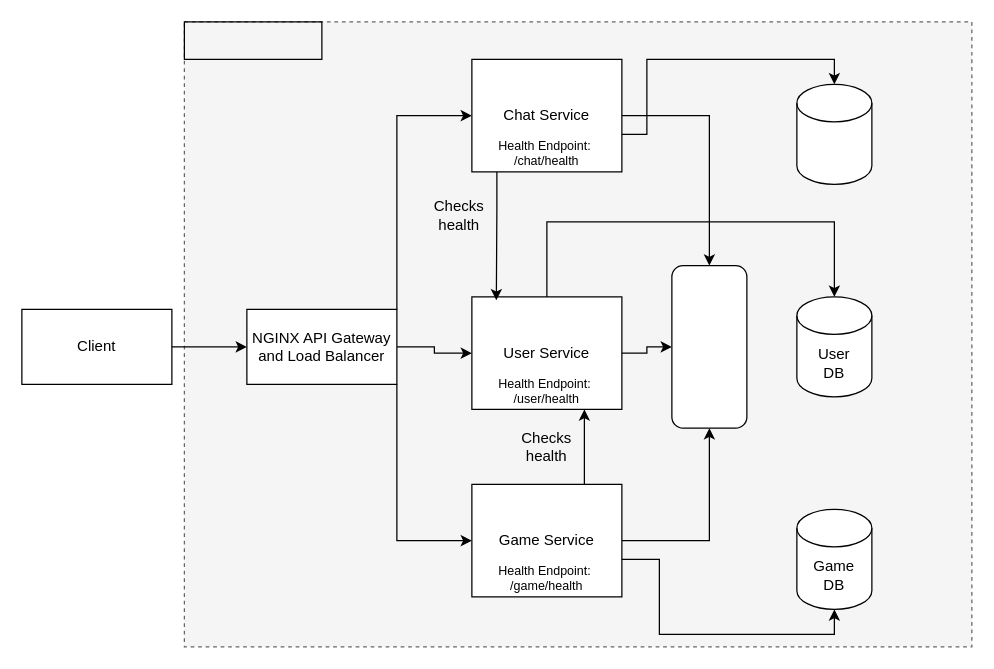
Some shapes in this 994 by 669 pixel diagram are drawn without their labels. Each missing label, with the centre of its shape:
"Chat DB" belongs at (834,133).
"Docker Network" belongs at (252,40).
"Redis Cache" belongs at (709,346).
